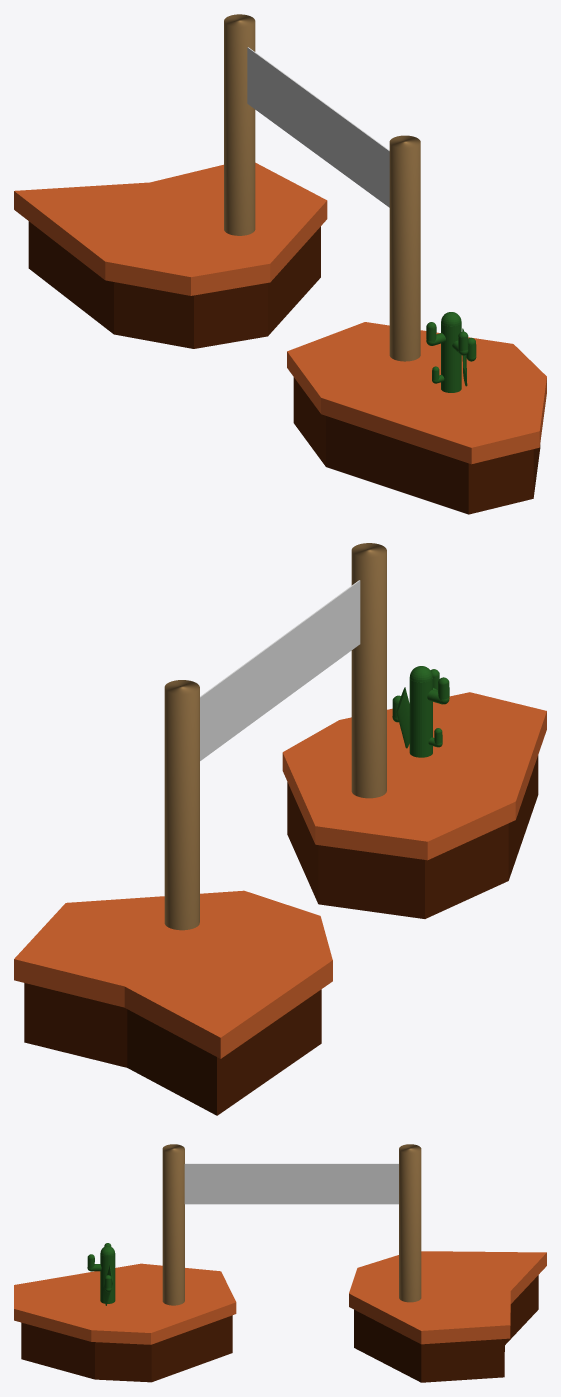
File: ligne d'arrivee canyon.fbx
3 views of the same model, one above another, from view 1: azimuth 30°, elevation 25°; view 2: azimuth 150°, elevation 25°; view 3: azimuth 270°, elevation 25° (orthographic). The views are drawn at different scales.
Parts seen in each view (by area): view 1: Terre 1.000, Terre.001, Herbe, Terre, Cube, Cylinder.001, Cylinder, Cactus; view 2: Terre 1.000, Terre.001, Herbe, Terre, Cube, Cylinder, Cylinder.001, Cactus; view 3: Terre 1.000, Terre.001, Cube, Terre, Herbe, Cylinder.001, Cylinder, Cactus.
Part boxes in pixels (left/top/right/bottom): Terre 1.000: left=14, top=162, right=327, bottom=295; Terre.001: left=287, top=322, right=546, bottom=464; Herbe: left=28, top=221, right=320, bottom=348; Terre: left=293, top=377, right=540, bottom=514; Cube: left=247, top=47, right=389, bottom=207; Cylinder.001: left=389, top=135, right=420, bottom=361; Cylinder: left=224, top=14, right=255, bottom=235; Cactus: left=441, top=321, right=461, bottom=392; Terre 1.000: left=14, top=890, right=332, bottom=1058; Terre.001: left=282, top=692, right=546, bottom=860; Herbe: left=24, top=983, right=321, bottom=1115; Terre: left=287, top=755, right=538, bottom=918; Cube: left=200, top=580, right=360, bottom=760; Cylinder: left=164, top=680, right=199, bottom=930; Cylinder.001: left=351, top=543, right=386, bottom=798; Cactus: left=409, top=677, right=432, bottom=757; Terre 1.000: left=349, top=1251, right=546, bottom=1344; Terre.001: left=14, top=1263, right=236, bottom=1344; Cube: left=184, top=1163, right=398, bottom=1204; Terre: left=21, top=1315, right=232, bottom=1382; Herbe: left=354, top=1275, right=538, bottom=1382; Cylinder.001: left=162, top=1144, right=184, bottom=1305; Cylinder: left=399, top=1144, right=421, bottom=1302; Cactus: left=100, top=1253, right=115, bottom=1303.
Bounding box in the file's own units: 851 × 1007 × 2398.
